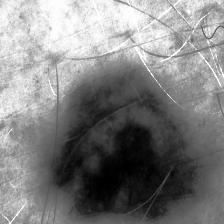Benign Marking or Mole: (44, 73, 209, 224)
